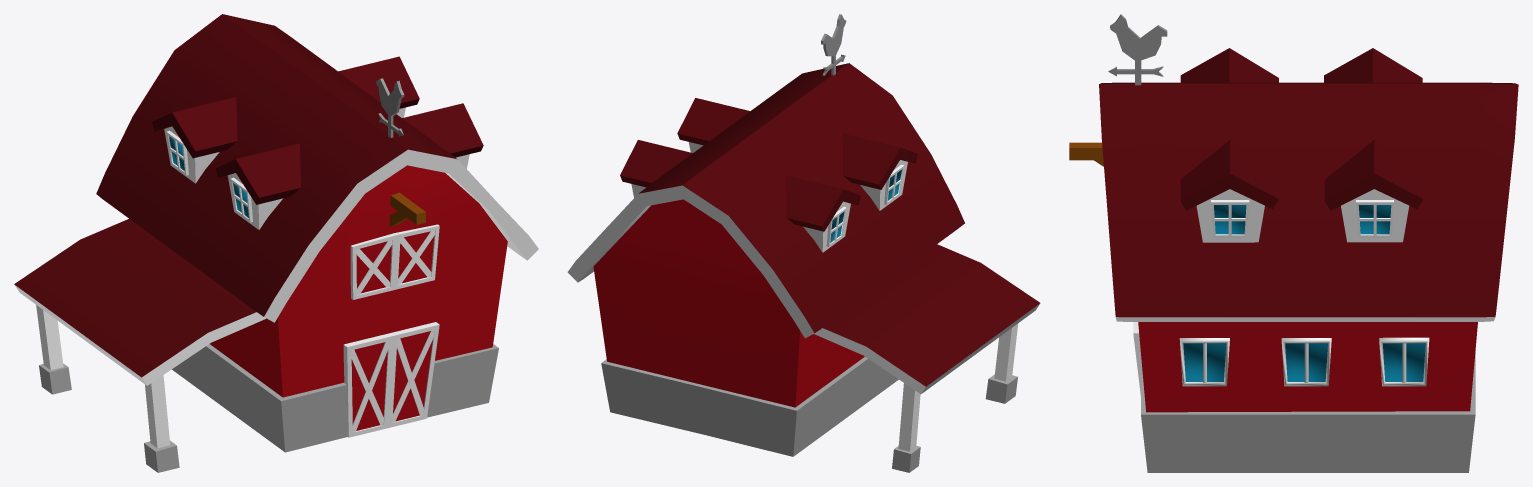
The model's file is Barn_New.fbx.
3 views of the same model, side by side, from view 1: azimuth 30°, elevation 25°; view 2: azimuth 150°, elevation 25°; view 3: azimuth 270°, elevation 25° (orthographic). The views are drawn at different scales.
Visible parts, largest first — view 1: Barn_Roof, Barn_Walls, Barn_Low_Roof, Barn_High_Windows, Barn_Base, Barn_Gate, Barn_Big_Window, Barn_Columns, Barn_Windvane, Barn_Wood_Beam; view 2: Barn_Roof, Barn_Walls, Barn_Low_Roof, Barn_Base, Barn_High_Windows, Barn_Columns, Barn_Windvane; view 3: Barn_Roof, Barn_Walls, Barn_Base, Barn_High_Windows, Barn_Low_Windows, Barn_Windvane, Barn_Wood_Beam.
Boxes of the visible parts, x1,y1,x2,y2 form: Barn_Roof: [96, 14, 538, 322]; Barn_Walls: [210, 165, 507, 397]; Barn_Low_Roof: [14, 219, 266, 385]; Barn_High_Windows: [152, 56, 483, 229]; Barn_Base: [172, 344, 498, 452]; Barn_Gate: [343, 322, 439, 437]; Barn_Big_Window: [350, 224, 439, 299]; Barn_Columns: [36, 305, 179, 472]; Barn_Windvane: [376, 78, 404, 137]; Barn_Wood_Beam: [389, 192, 425, 226]; Barn_Roof: [567, 63, 964, 338]; Barn_Walls: [593, 199, 864, 407]; Barn_Low_Roof: [814, 244, 1040, 393]; Barn_Base: [601, 357, 898, 456]; Barn_High_Windows: [620, 98, 917, 252]; Barn_Columns: [892, 323, 1018, 472]; Barn_Windvane: [821, 14, 846, 75]; Barn_Roof: [1099, 82, 1518, 321]; Barn_Walls: [1138, 322, 1477, 412]; Barn_Base: [1141, 351, 1475, 472]; Barn_High_Windows: [1180, 48, 1423, 242]; Barn_Low_Windows: [1179, 337, 1429, 386]; Barn_Windvane: [1108, 14, 1167, 85]; Barn_Wood_Beam: [1069, 142, 1103, 166].
Bounding box in the file's own units: 356 × 320 × 325.
